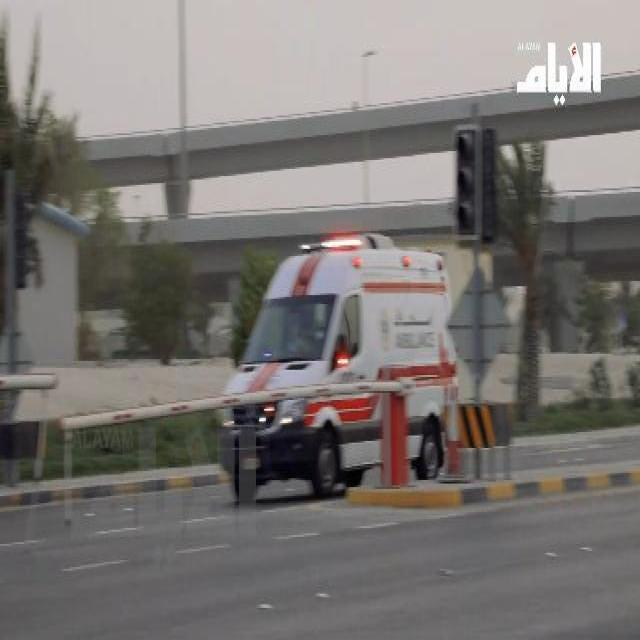emergency-vehicle: (220, 235, 458, 497)
